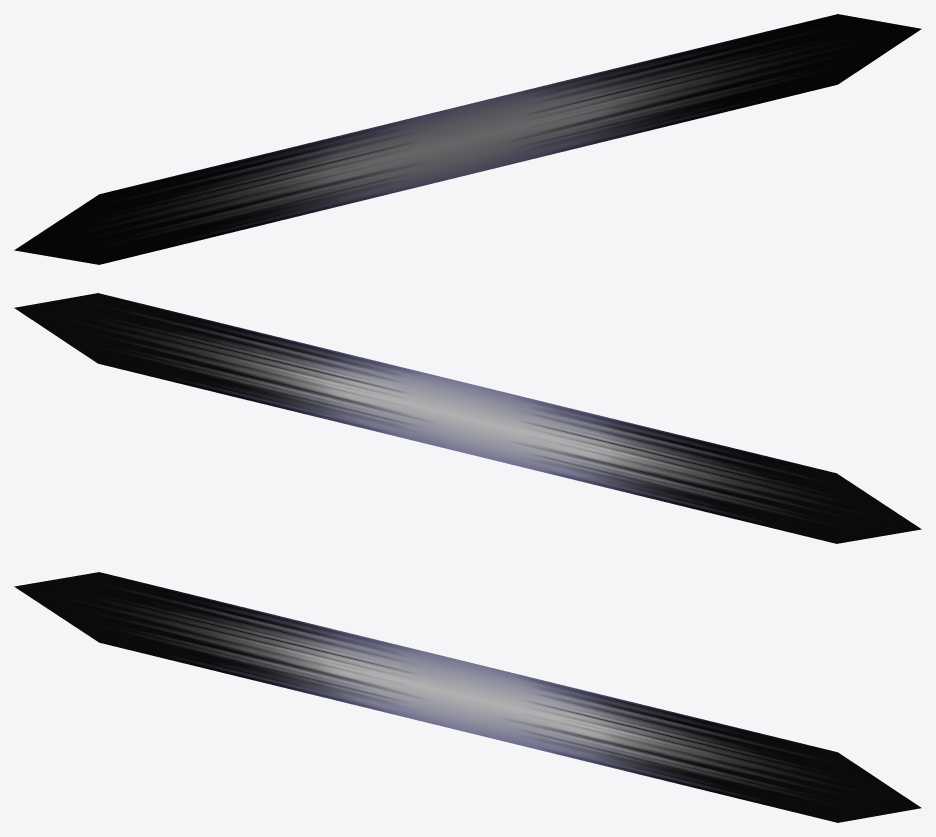
3 views of the same model, one above another, from view 1: azimuth 30°, elevation 25°; view 2: azimuth 150°, elevation 25°; view 3: azimuth 330°, elevation 25° (orthographic).
Visible parts, largest first — view 1: Joint_0_Object_0; view 2: Joint_0_Object_0; view 3: Joint_0_Object_0.
Part boxes in pixels (left/top/right/bottom): Joint_0_Object_0: left=14, top=14, right=921, bottom=264; Joint_0_Object_0: left=14, top=293, right=921, bottom=543; Joint_0_Object_0: left=14, top=572, right=921, bottom=822.
Bounding box in the file's own units: 214 × 15.92 × 0.
1 material, 1 textured.
